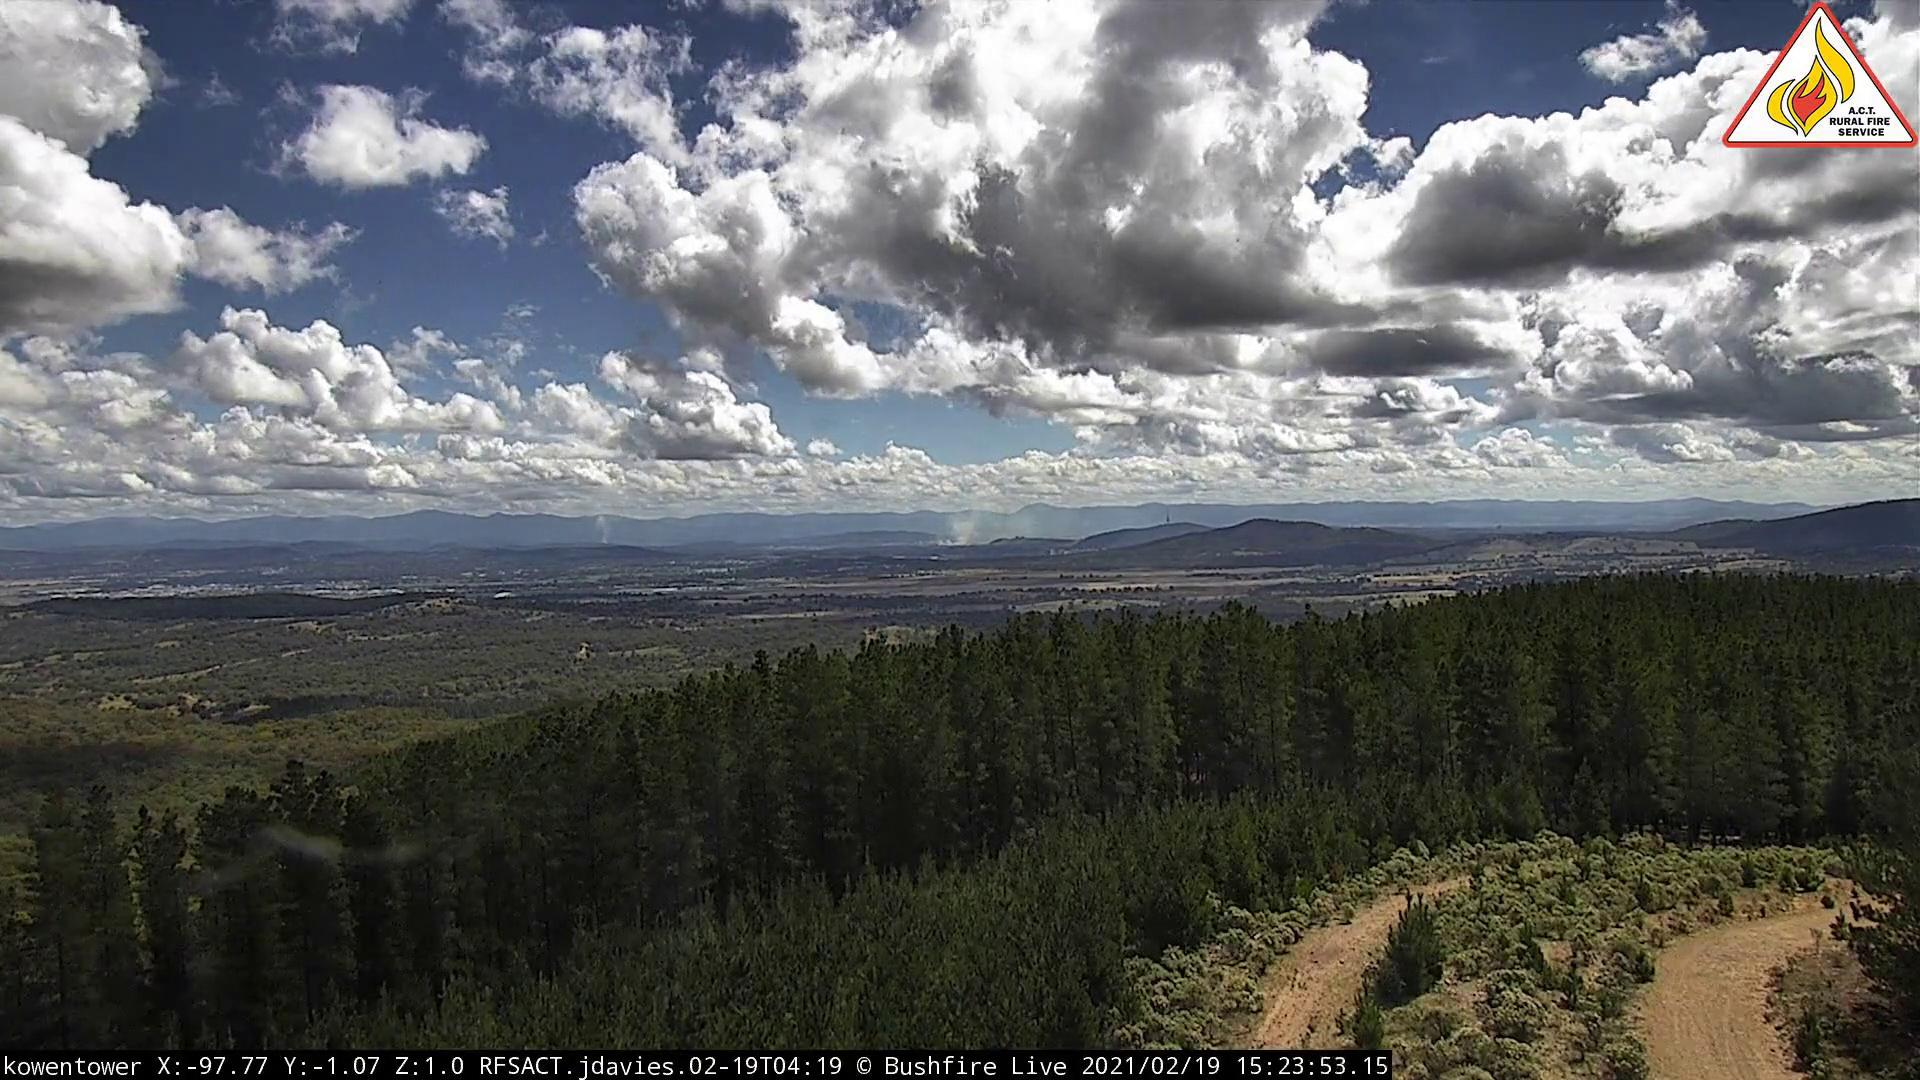Smoke: (931, 505, 1048, 553), (592, 512, 617, 550)
